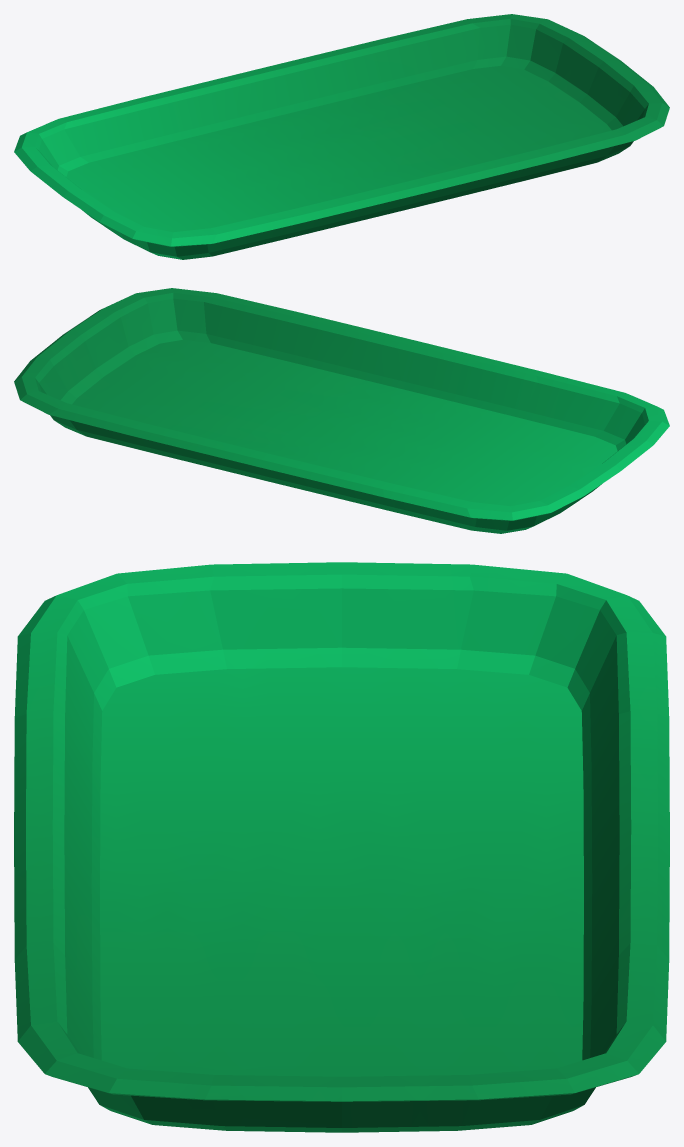
The model's file is PlantPot_TrayB.fbx.
3 renders of one model, top to bottom at view 1: azimuth 30°, elevation 25°; view 2: azimuth 150°, elevation 25°; view 3: azimuth 270°, elevation 25°, orthographic. The views are drawn at different scales.
Parts seen in each view (by area): view 1: PlantPot_TrayB; view 2: PlantPot_TrayB; view 3: PlantPot_TrayB.
Part boxes in pixels (x1=…): PlantPot_TrayB: x1=14, y1=14, x2=669, y2=259; PlantPot_TrayB: x1=14, y1=288, x2=669, y2=533; PlantPot_TrayB: x1=14, y1=562, x2=669, y2=1132.
Size of the model in its own units: 67.58 by 4.55 by 34.96.
